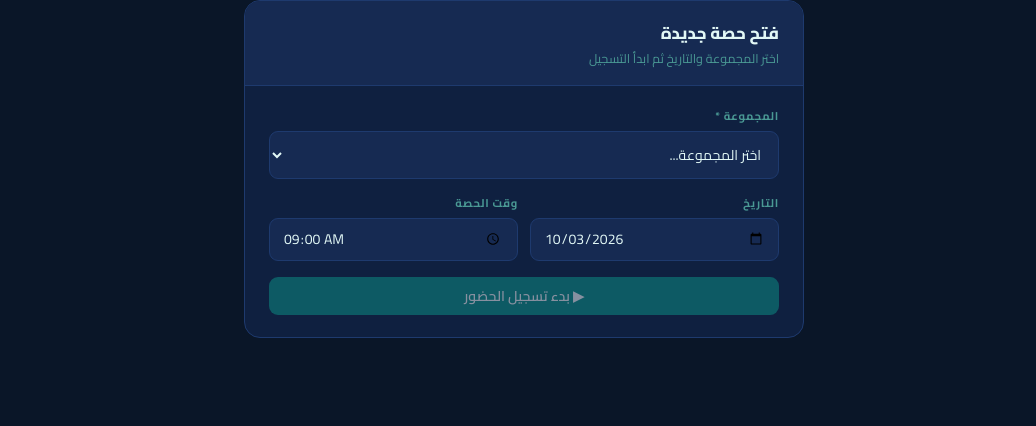
Test: SessionMarking — eligibility-based roster (Group Closure) › Case C: an Additional-Group-only student (no Primary Group at all) appears when the server says they are eligible for that group
Select "Group B (1 طالب)" in the dropdown at (524, 155), box [269,131,779,179]
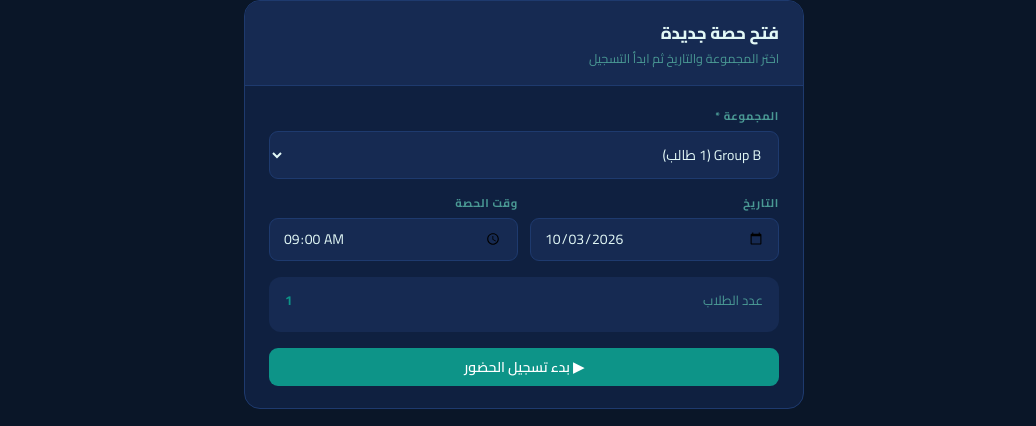
Click the button "▶ بدء تسجيل الحضور" at (524, 367), box [269,348,779,386]
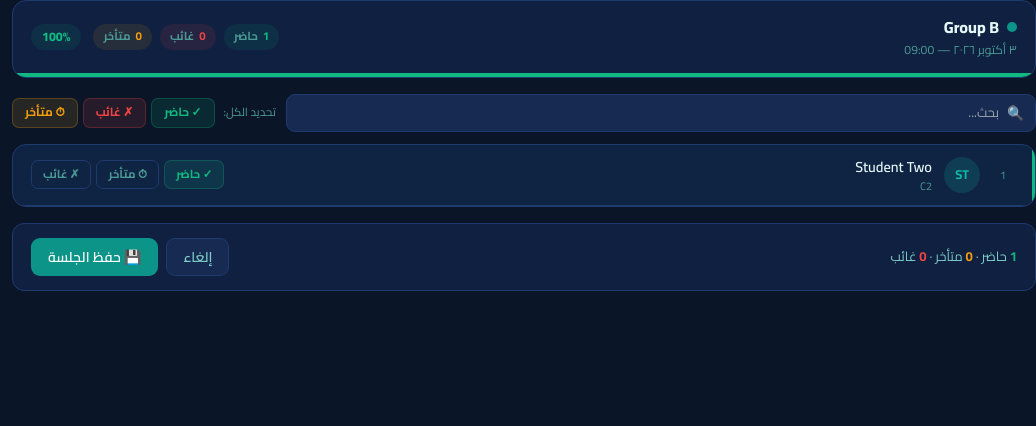
Now the text "Student Two" is shown, box [855,153,932,180]
